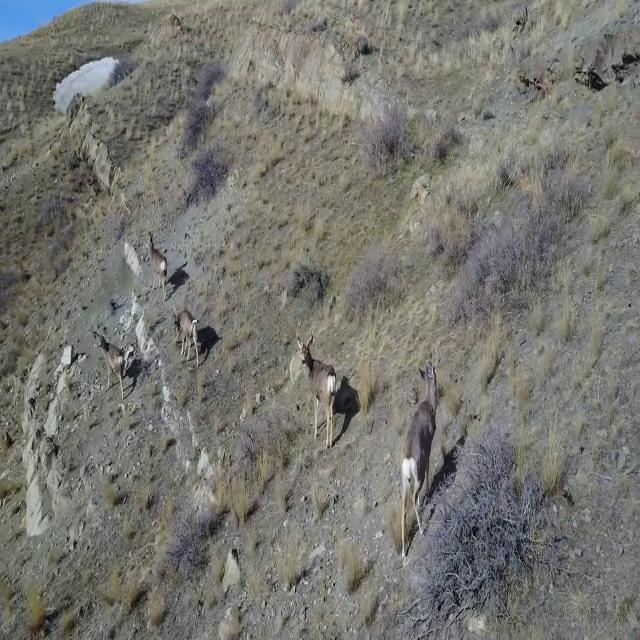Deer: (401, 353, 446, 561), (293, 324, 343, 452), (90, 324, 130, 396), (142, 230, 174, 300), (172, 303, 204, 368)
